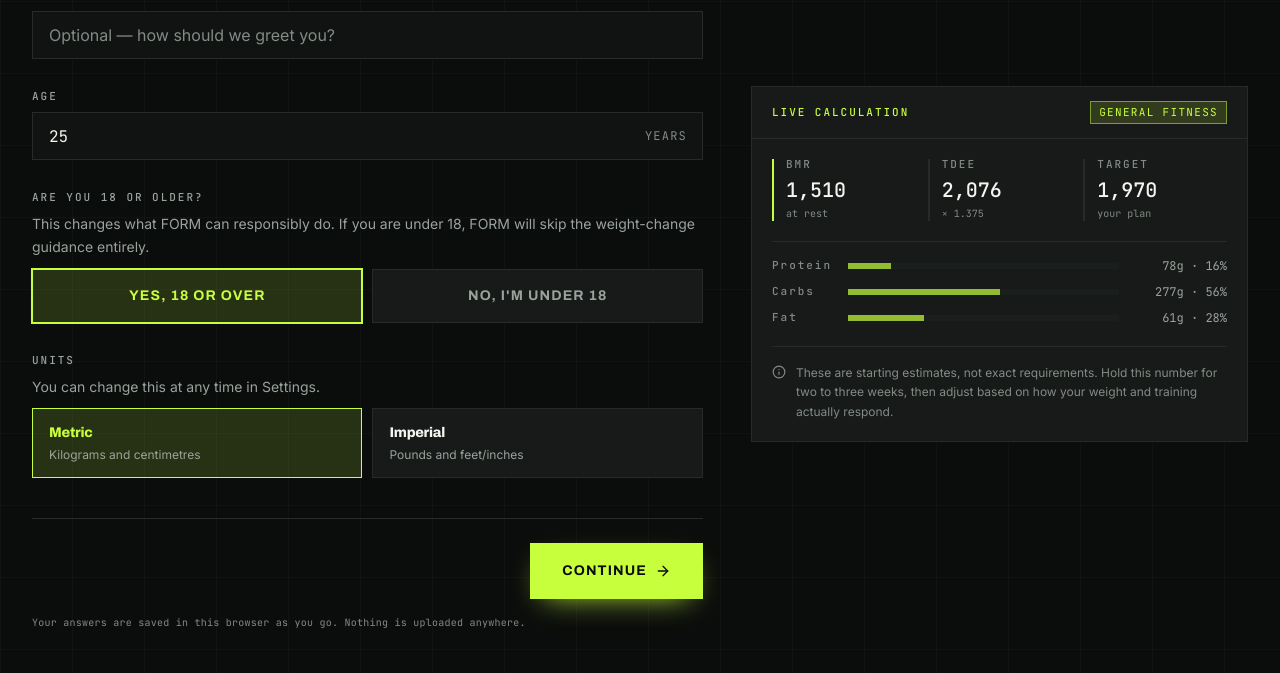
Scenario: the body step › accepts a new height and weight and moves on
(page scrolled)
Click the button "Continue".
click(617, 571)  # box [530,543,703,599]
(page scrolled)
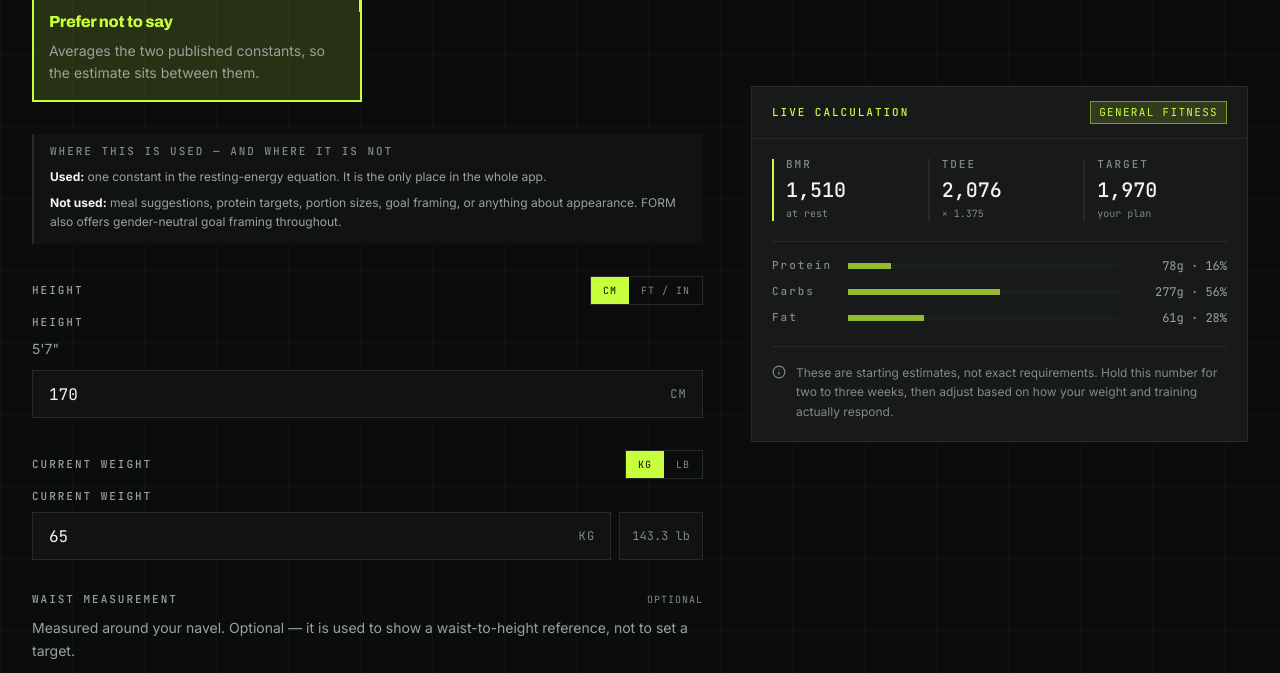
Replace the text in the number field labelled "Height" with "182" at (368, 394), box [32,370,703,418]
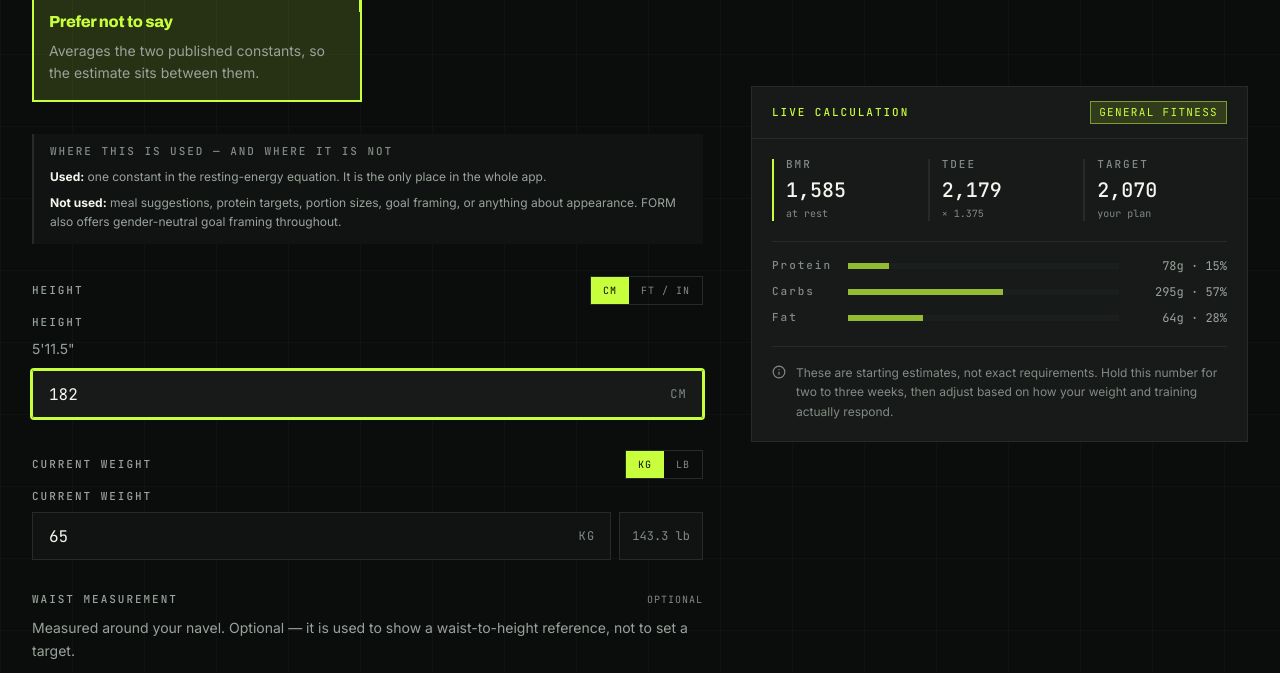
Replace the text in the number field labelled "Current weight" with "74.5" at (322, 536), box [32,512,611,560]
(page scrolled)
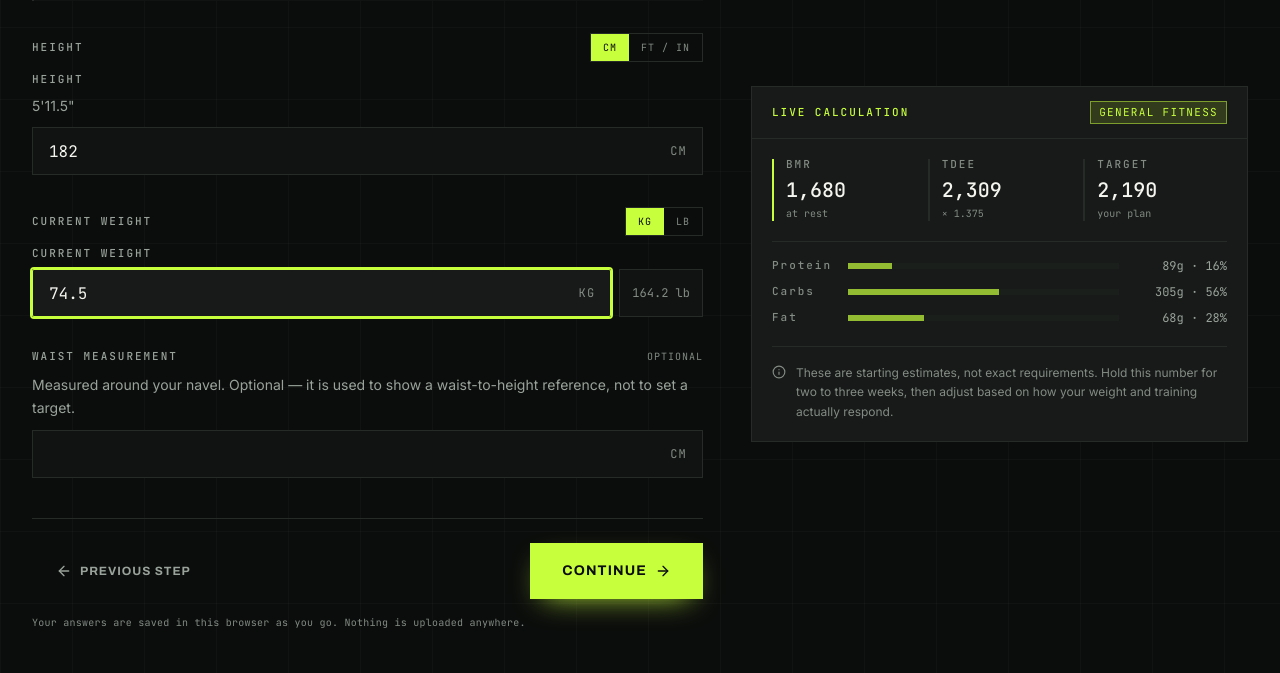
Click the button "Continue".
click(617, 571)  # box [530,543,703,599]
(page scrolled)
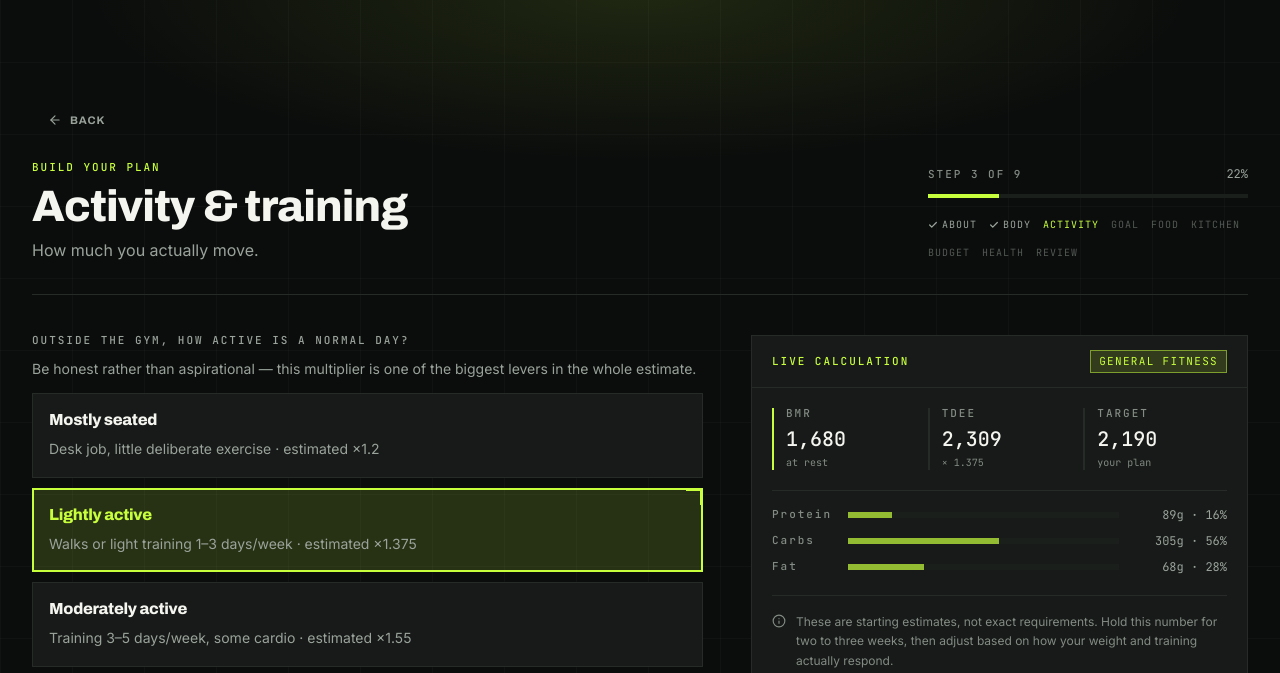
Expected: the text "Step 3 of 9" is shown, [928,169,1022,180]
